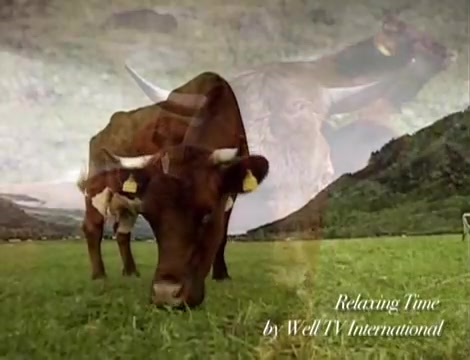cow: (78, 72, 270, 317)
